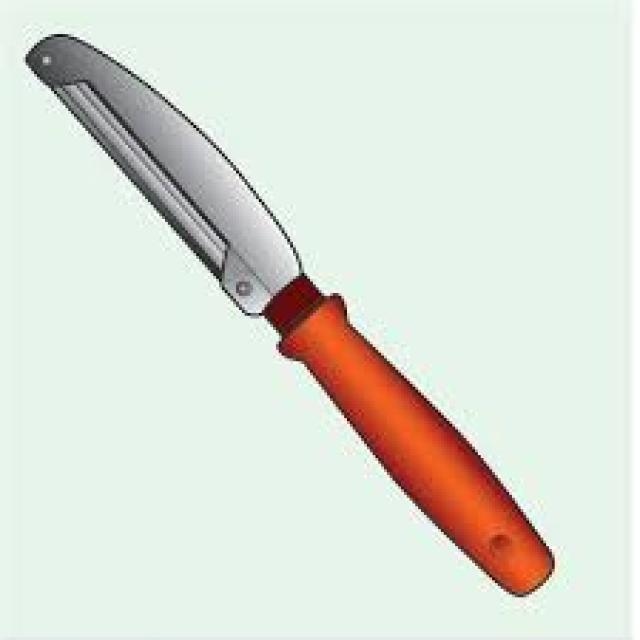Knife: (26, 34, 555, 592)
